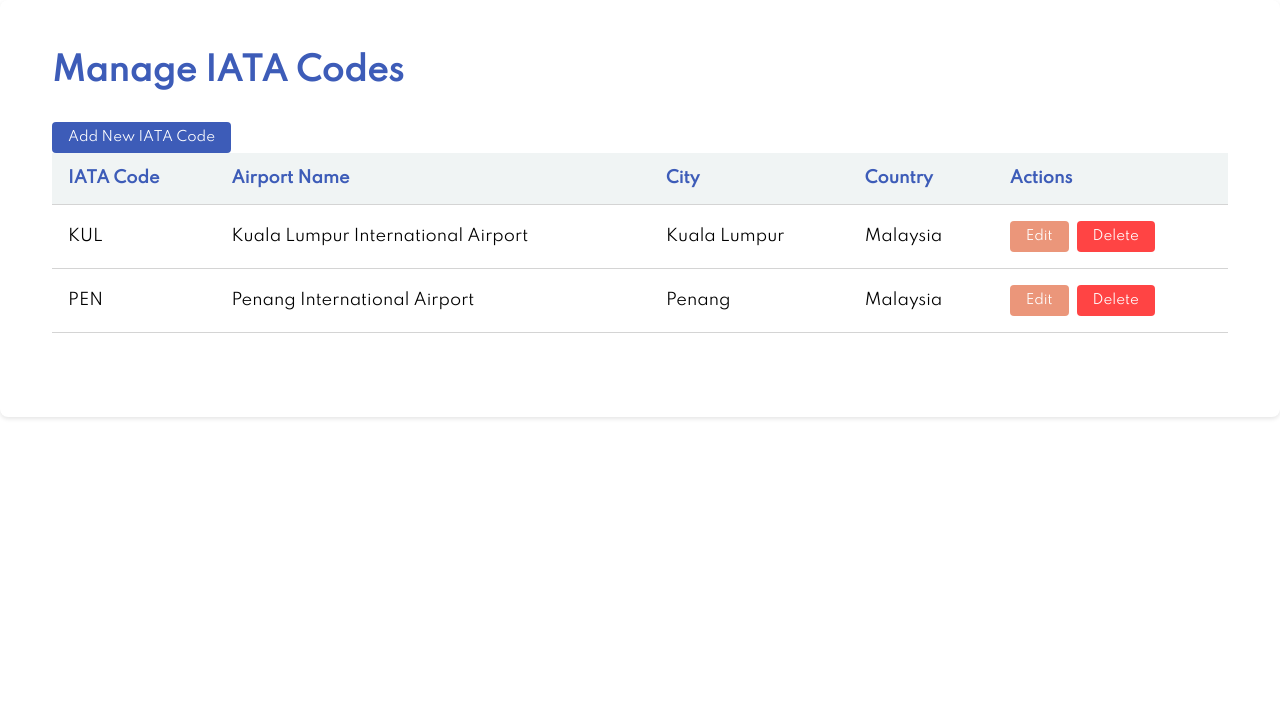
Test: AdminAirports Component Integration Tests › should edit an existing IATA code
The image size is (1280, 720).
expect the cell with test id "iata-code-1" is shown: met, box [52,204,215,268]
// Click edit button for first IATA code
Step 1. Click the button with test id "edit-iata-1" → (1039, 236), box [1010,221,1068,252]
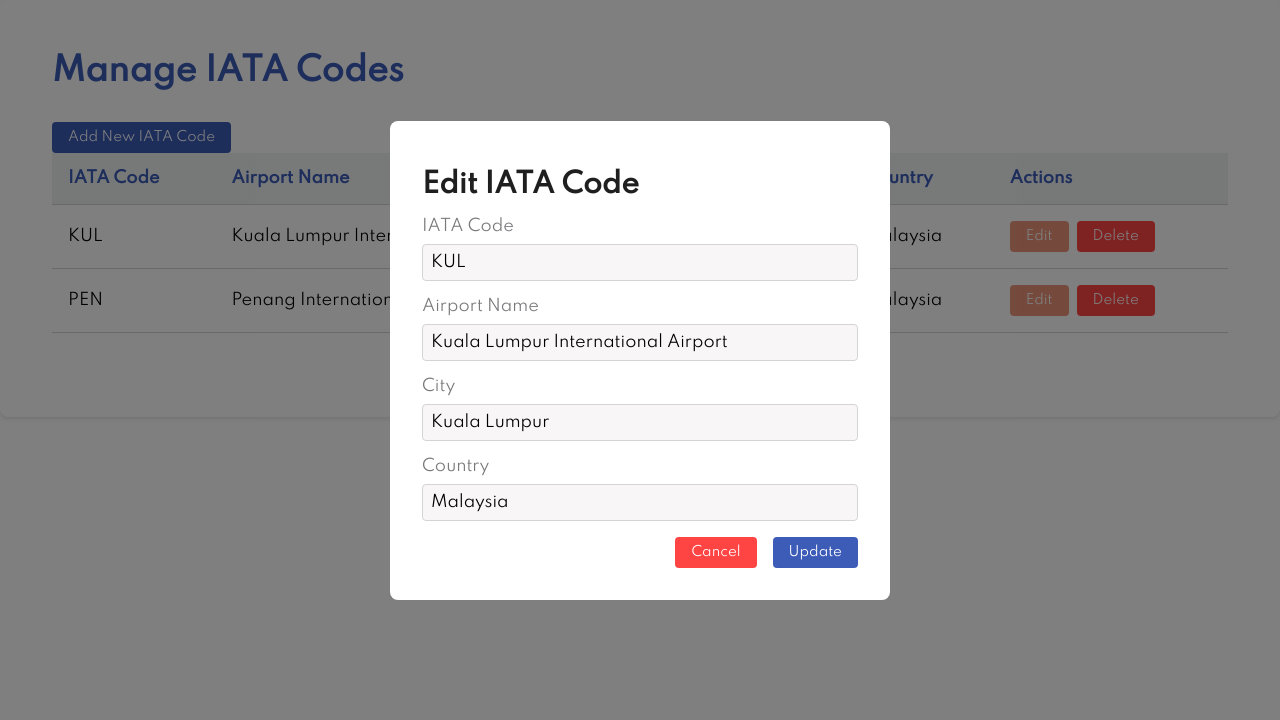
// Clear and update airport name
Step 2. Replace the text in the field with test id "airport-name-input" with "KLIA" → (640, 342), box [422,324,858,360]
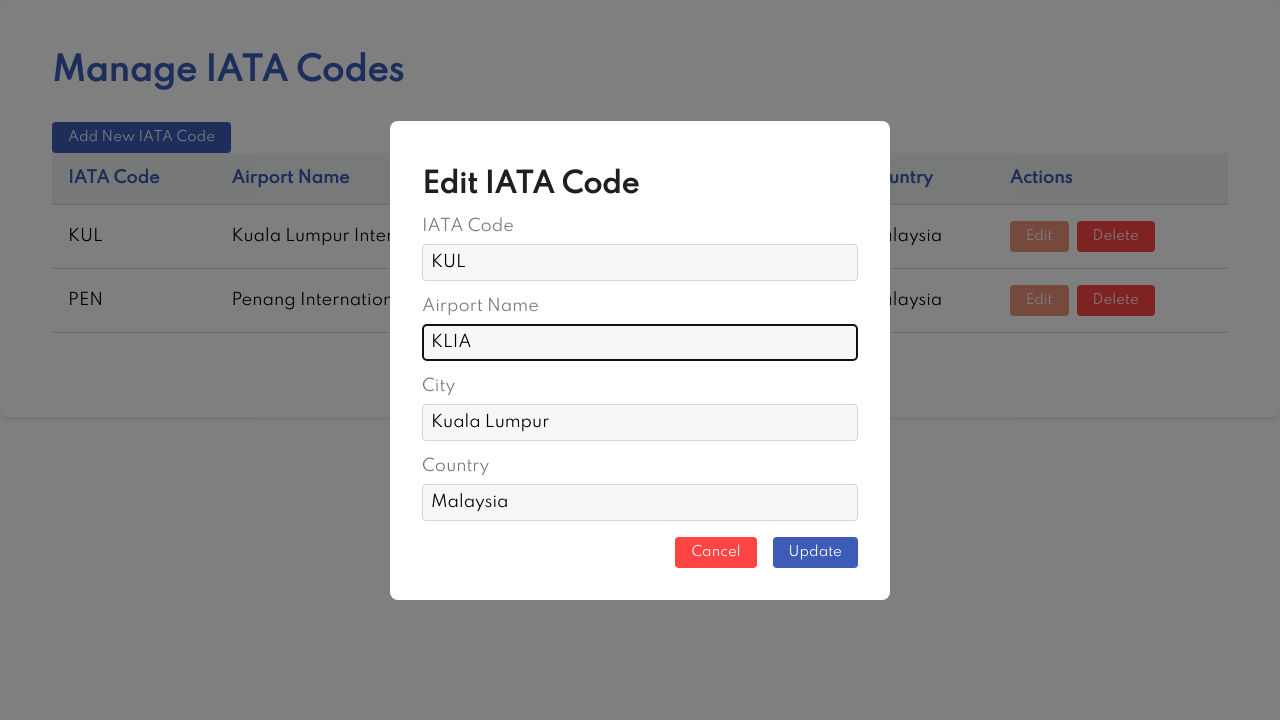
// Submit changes
Step 3. Click the button with test id "submit-iata-button" → (815, 552), box [773,536,858,568]
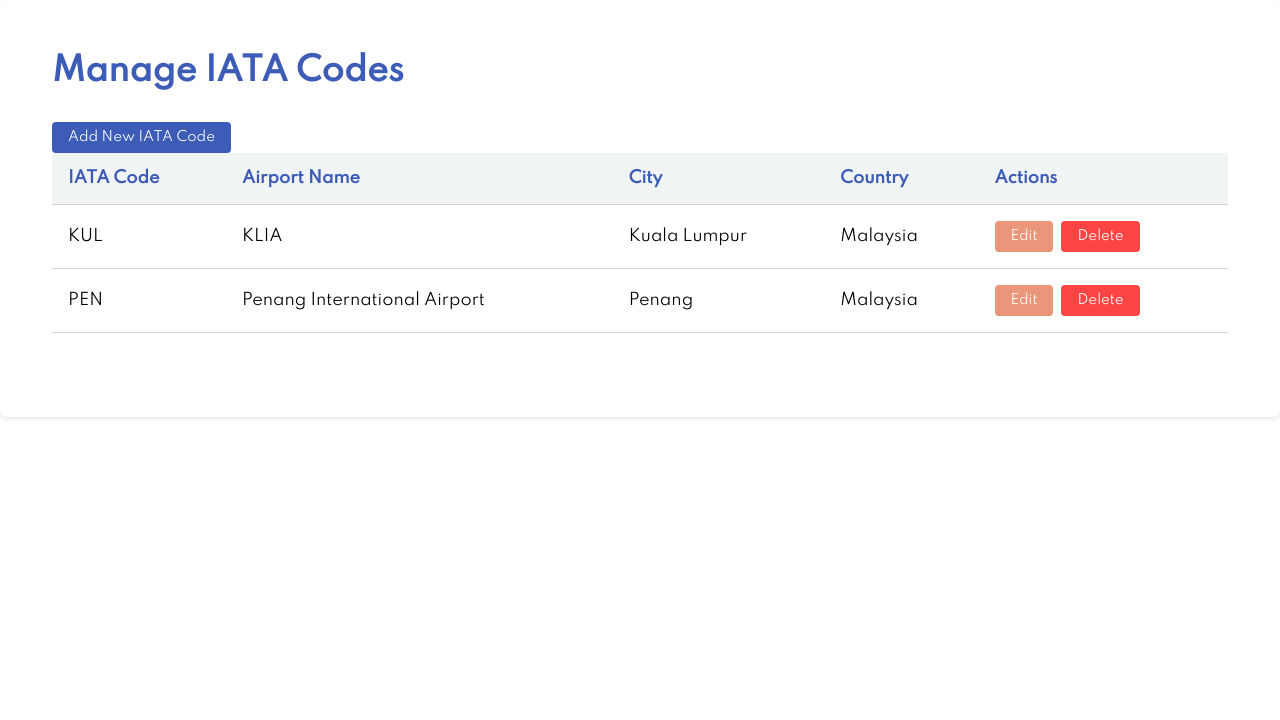
expect the heading with test id "modal-title" is gone: met
expect the row "KUL KLIA Kuala Lumpur Malaysia Edit Delete" is shown: met, box [52,204,1228,268]
